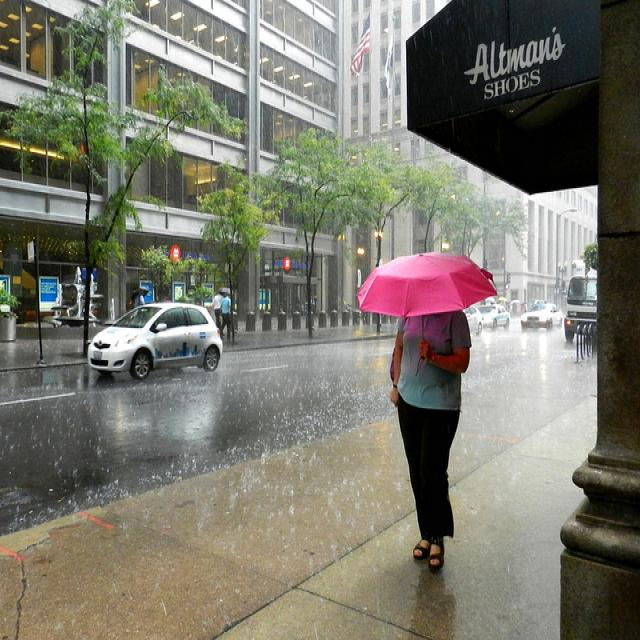Vehicle: (88, 302, 223, 380), (564, 274, 598, 342), (521, 301, 564, 331), (478, 304, 510, 331), (463, 306, 484, 336)
